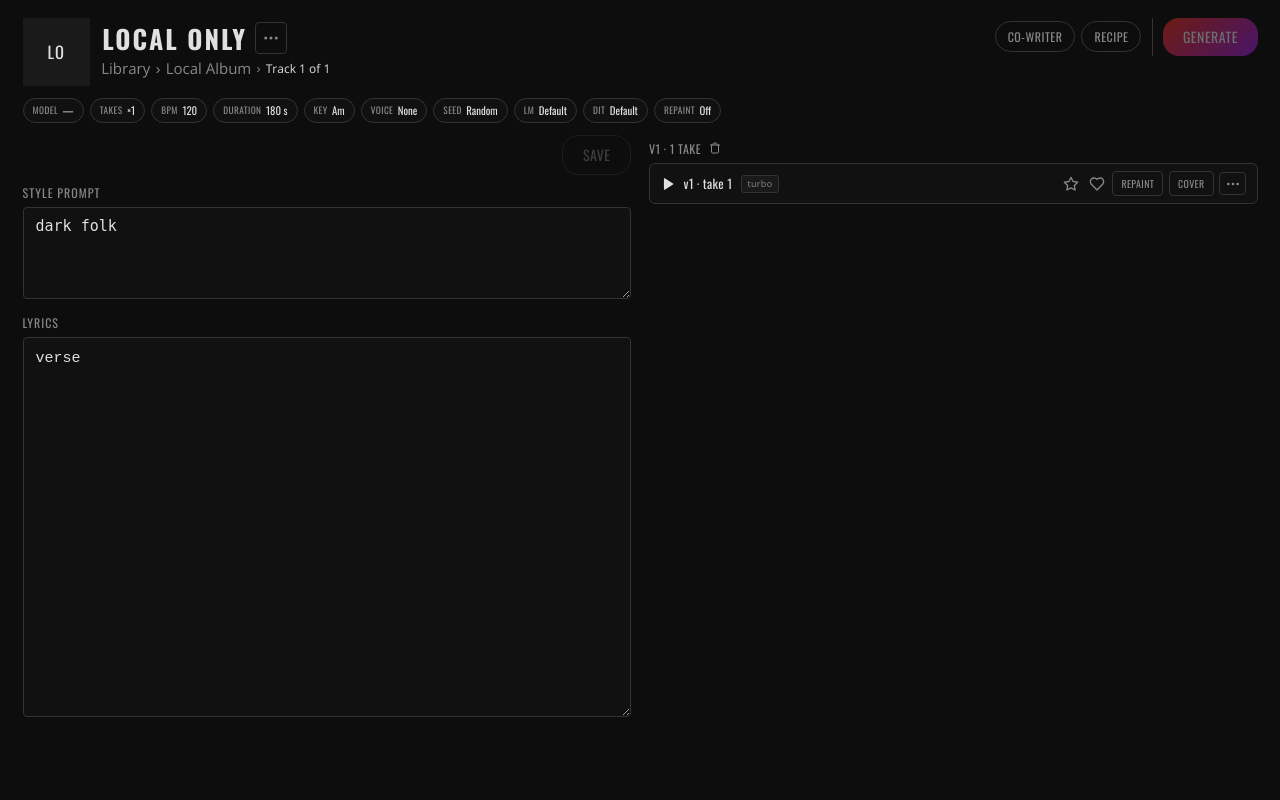
SongDetailView header — one row, every state › switches the Write column into Co-Writer mode without hiding the header
Click the button "Co-Writer".
click(1035, 37)  # box x1=995 y1=21 x2=1076 y2=52
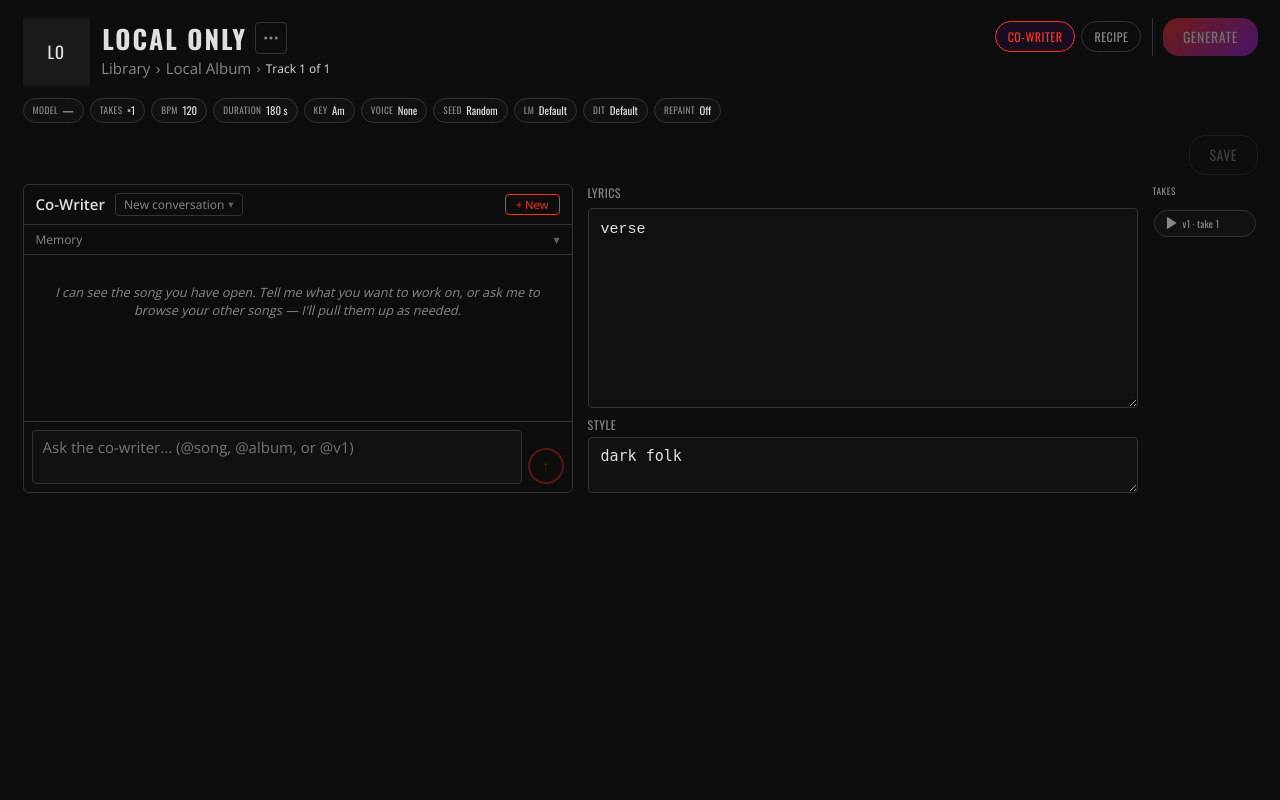
Expected: the element with class "detail-header" is shown, x1=22 y1=18 x2=1258 y2=86
Expected: the element with class "cowriter-mode" is shown, x1=22 y1=184 x2=1258 y2=493
